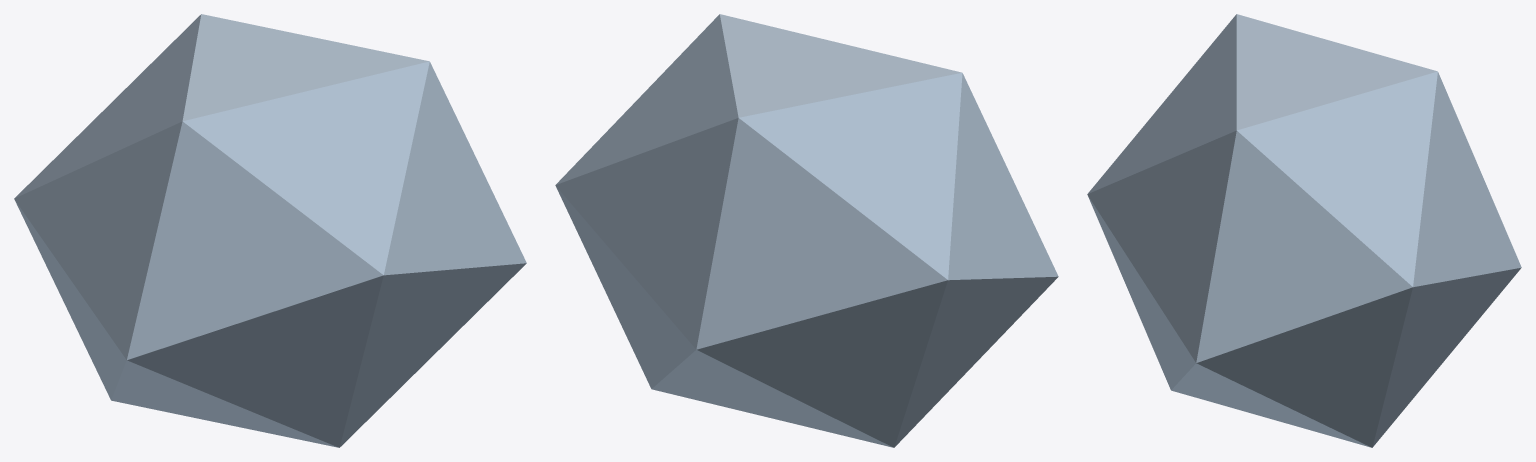
Rendered from Snowball_Alt1.fbx.
The picture shows the model from 3 angles, left to right: view 1: azimuth 30°, elevation 25°; view 2: azimuth 150°, elevation 25°; view 3: azimuth 270°, elevation 25°; orthographic projection. The views are drawn at different scales.
Parts seen in each view (by area): view 1: Snowball_Alt1; view 2: Snowball_Alt1; view 3: Snowball_Alt1.
Part boxes in pixels (x1,y1,x2,y2): Snowball_Alt1: (14,14,526,447); Snowball_Alt1: (555,14,1058,447); Snowball_Alt1: (1087,14,1521,447).
Size of the model in its own units: 0.1286 by 0.102 by 0.1258.
